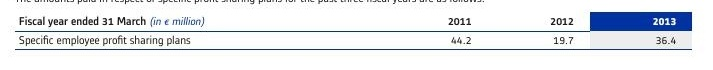table: (0, 0, 713, 70)
